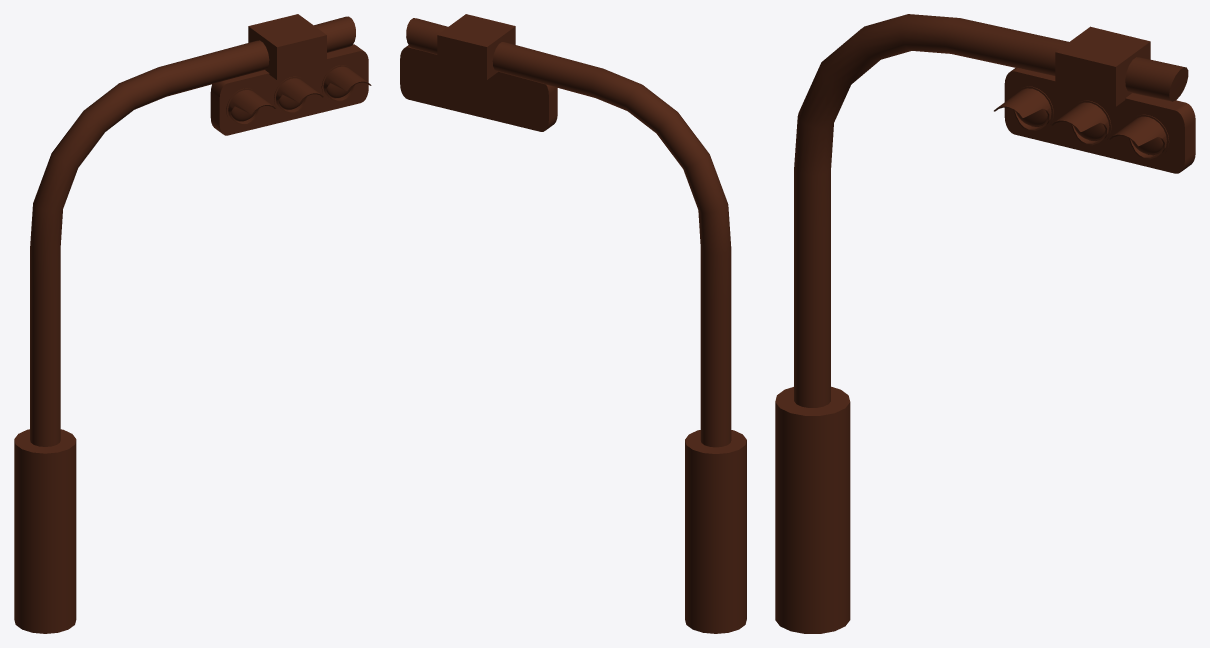
File: Street Lights.fbx
3 renders of one model, left to right at view 1: azimuth 30°, elevation 25°; view 2: azimuth 150°, elevation 25°; view 3: azimuth 330°, elevation 25°, orthographic. The views are drawn at different scales.
Visible parts, largest first — view 1: polySurface43, polySurface45, polySurface40, polySurface34, polySurface37; view 2: polySurface43, polySurface45; view 3: polySurface43, polySurface45, polySurface40, polySurface34, polySurface37.
Boxes of the visible parts, x1,y1,x2,y2 form: polySurface43: (14, 16, 355, 633); polySurface45: (210, 14, 368, 135); polySurface40: (274, 76, 323, 113); polySurface34: (226, 88, 275, 125); polySurface37: (321, 65, 371, 101); polySurface43: (406, 18, 746, 633); polySurface45: (400, 14, 557, 131); polySurface43: (775, 14, 1188, 633); polySurface45: (1004, 26, 1195, 173); polySurface40: (1051, 100, 1111, 145); polySurface34: (994, 86, 1053, 130); polySurface37: (1109, 114, 1169, 159).
Bounding box in the file's own units: 6.85 × 10.19 × 1.53.
